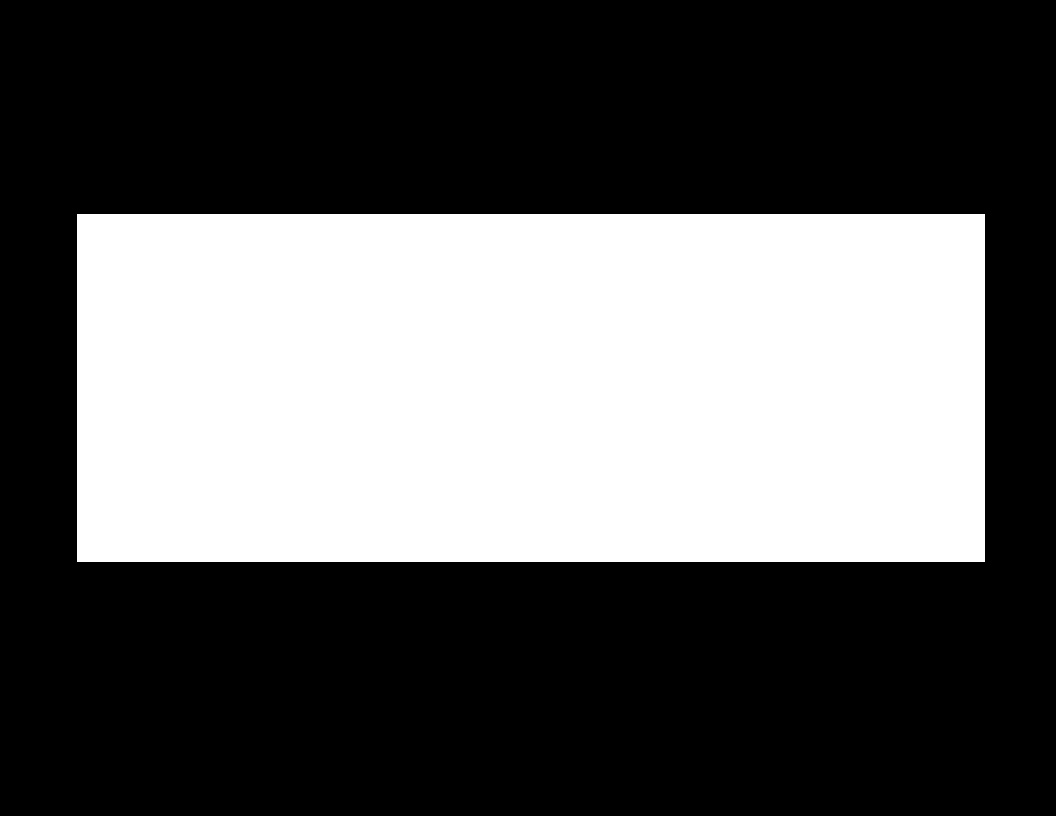table: (77, 214, 984, 561)
